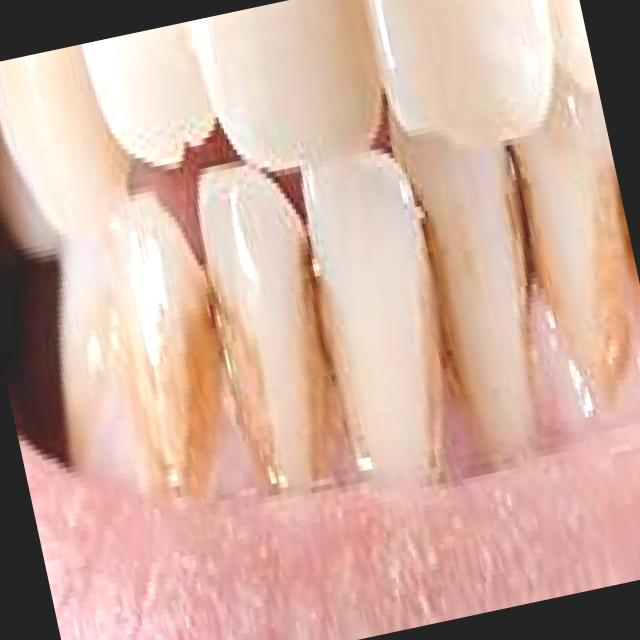calculus: (29, 238, 190, 516), (145, 205, 291, 498), (374, 171, 490, 426), (264, 232, 381, 479), (474, 128, 576, 322), (563, 135, 640, 379)
